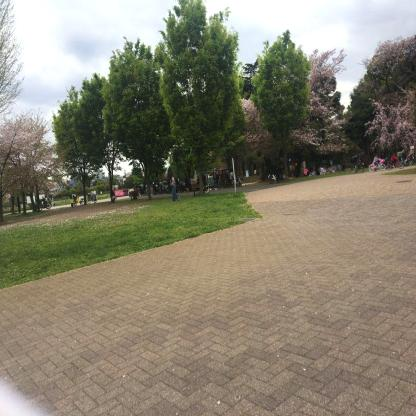Someiyoshino: (362, 29, 416, 159), (292, 43, 350, 158), (0, 95, 63, 200), (236, 95, 271, 149)
